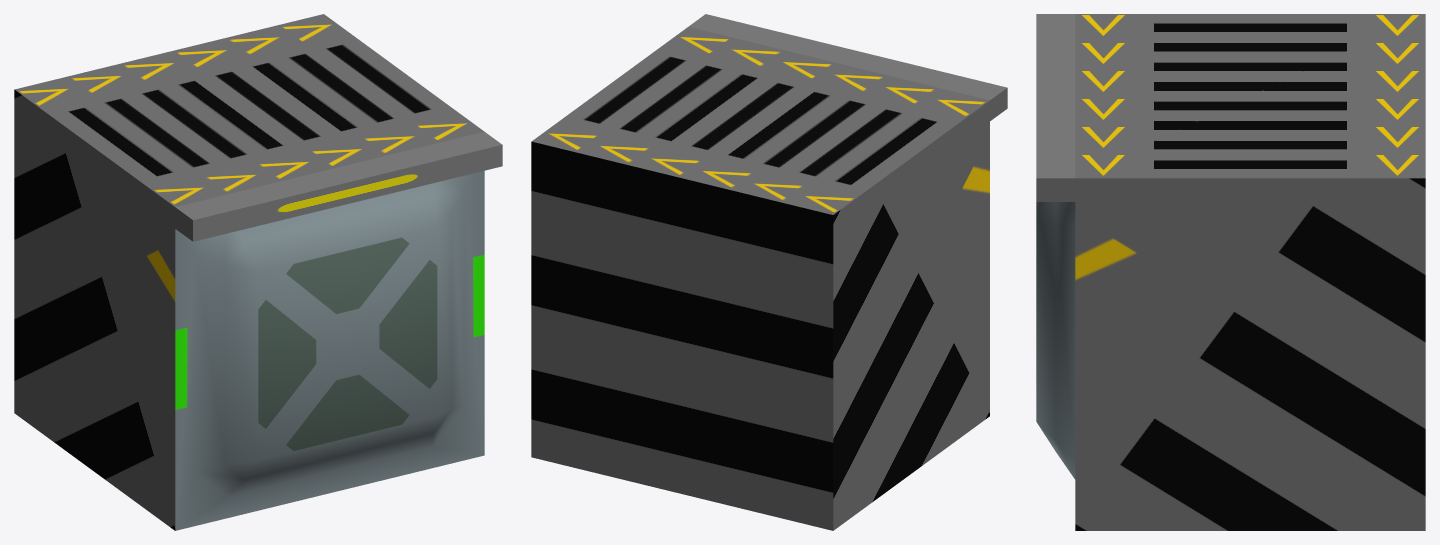
File: MidPartFloor.fbx
The picture shows the model from 3 angles, left to right: view 1: azimuth 30°, elevation 25°; view 2: azimuth 150°, elevation 25°; view 3: azimuth 270°, elevation 25°; orthographic projection. The views are drawn at different scales.
Visible parts, largest first — view 1: geo1; view 2: geo1; view 3: geo1.
Boxes of the visible parts, x1,y1,x2,y2 form: geo1: [14, 14, 502, 530]; geo1: [531, 14, 1007, 530]; geo1: [1036, 14, 1425, 530].
Bounding box in the file's own units: 3 × 3 × 3.
